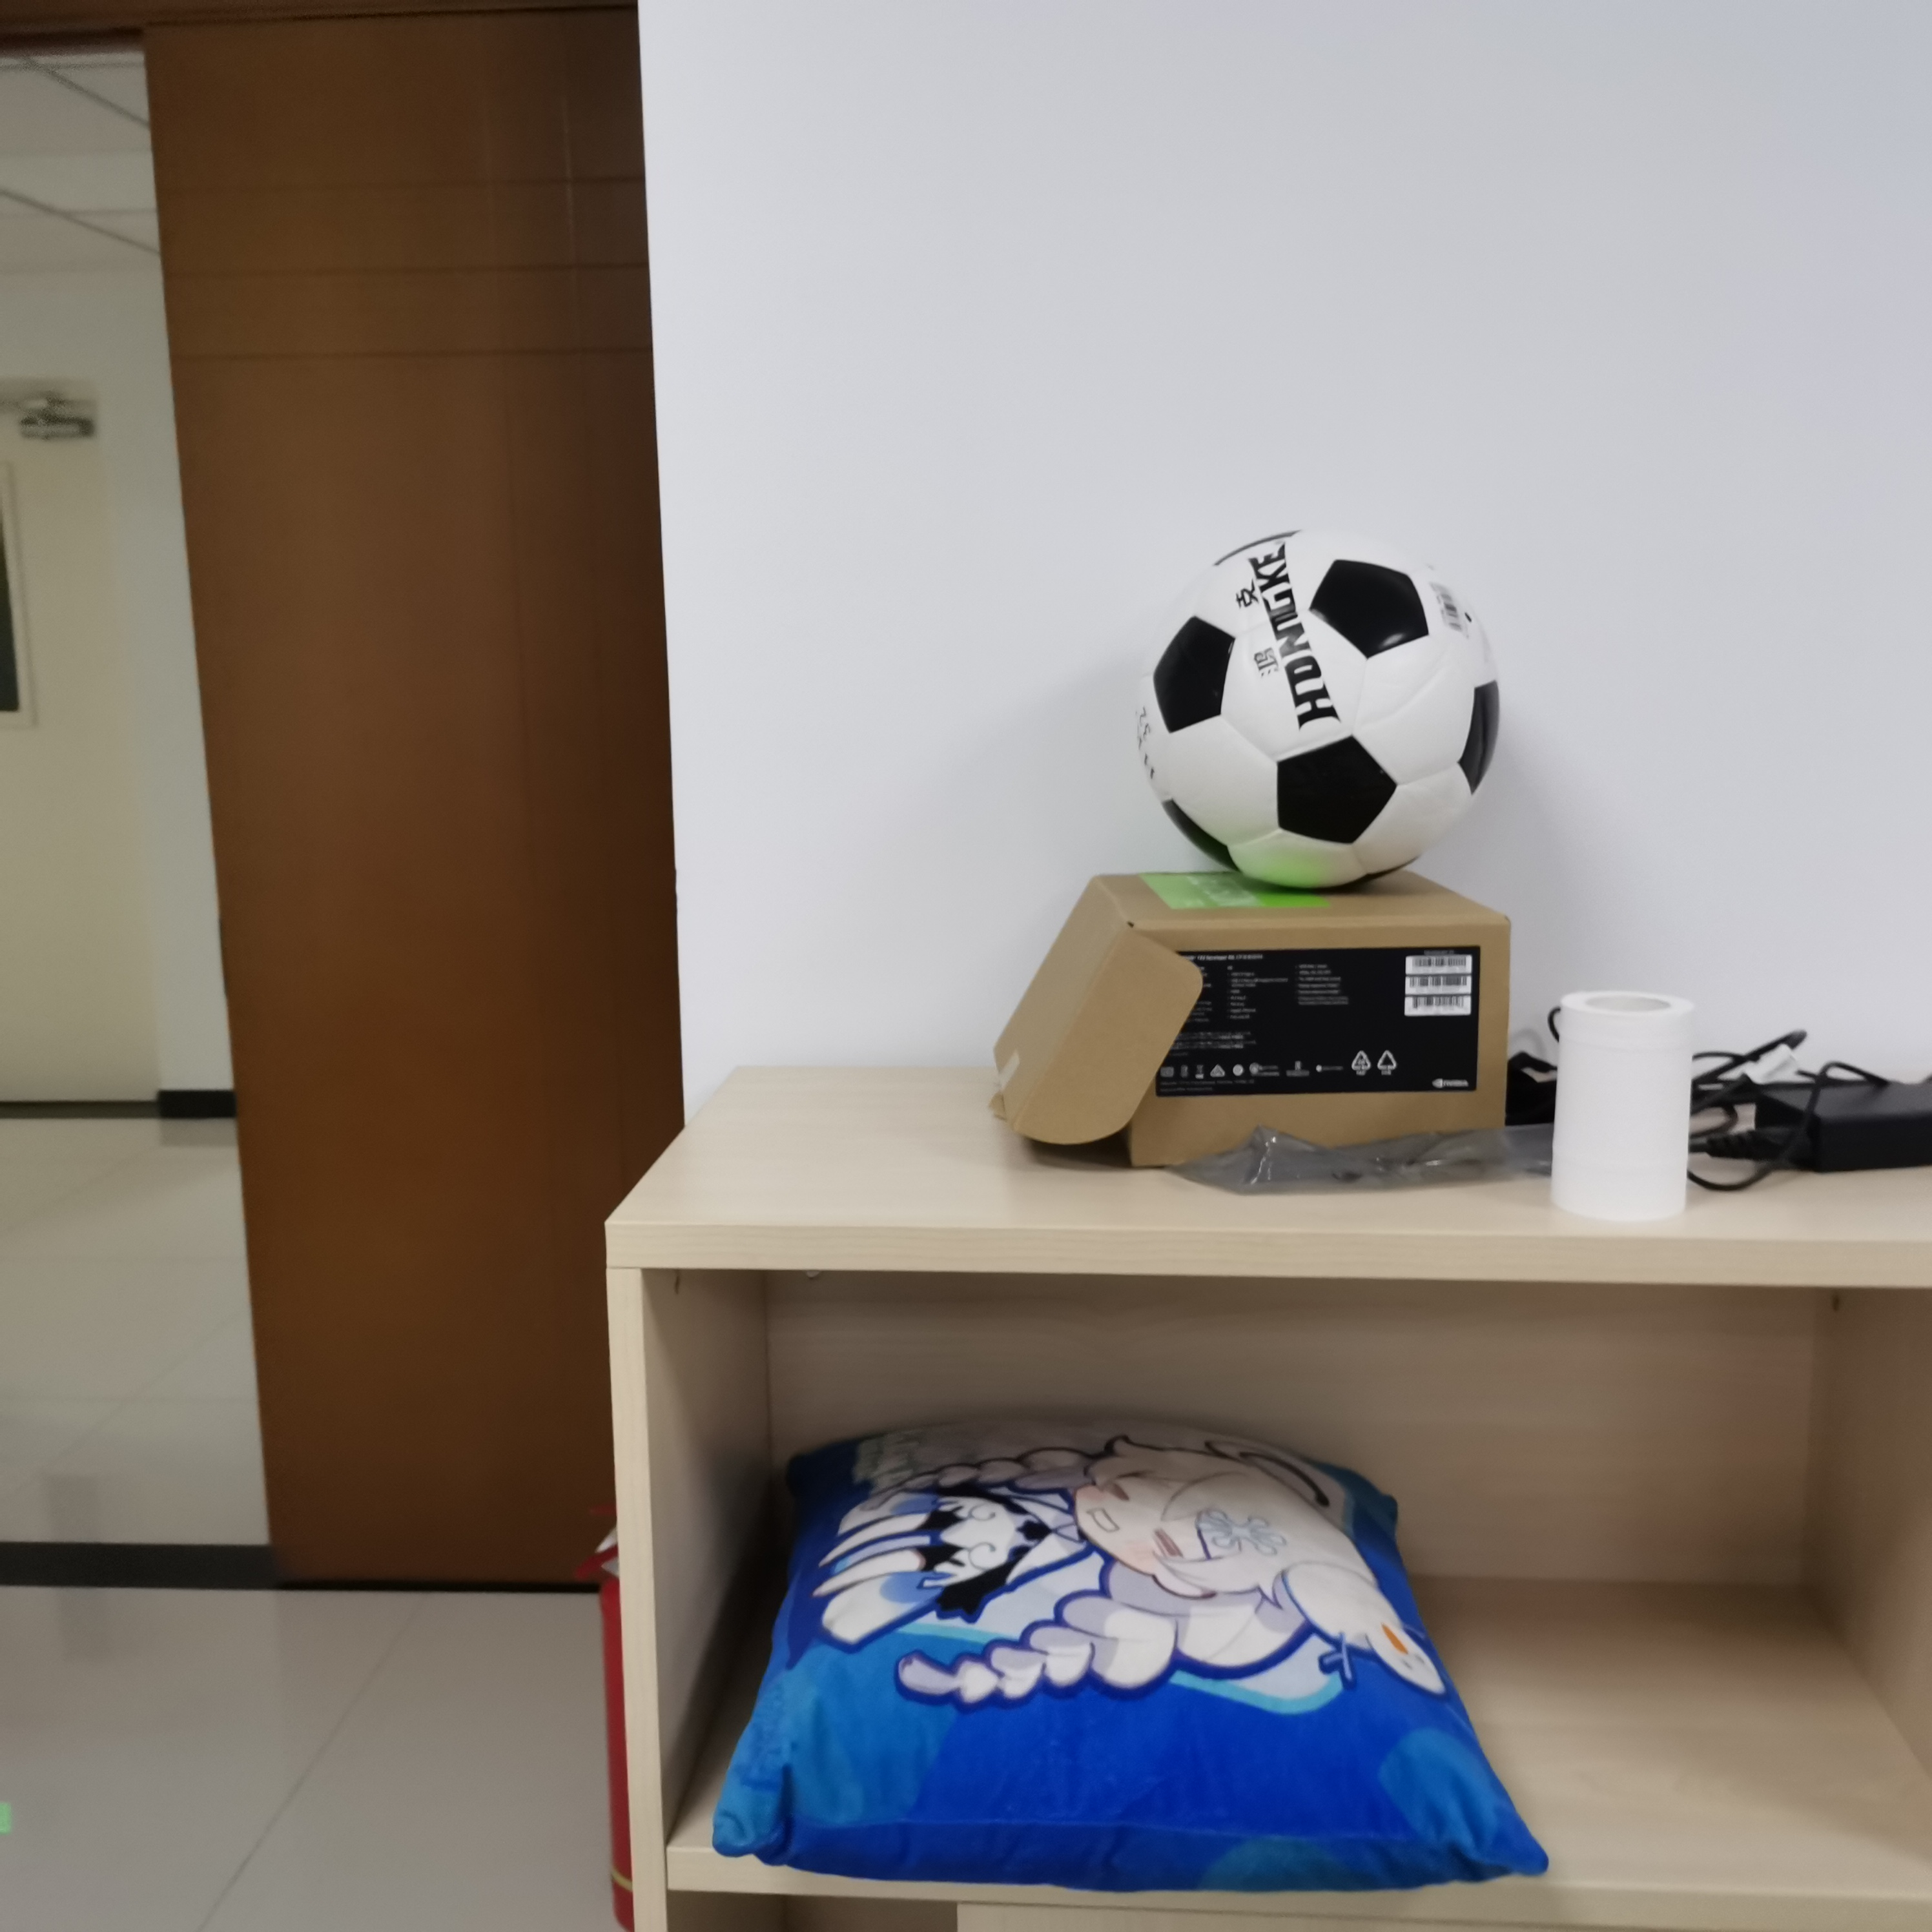football: (1138, 527, 1504, 892)
